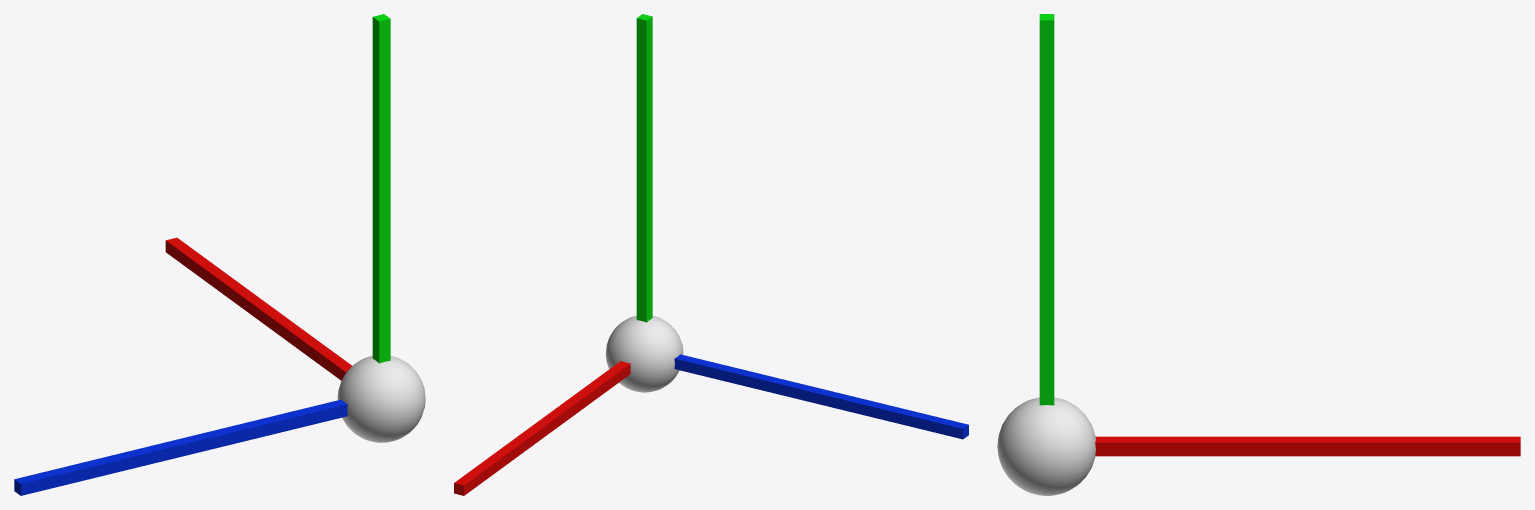
The model's file is visdiorama.fbx.
The picture shows the model from 3 angles, left to right: view 1: azimuth 30°, elevation 25°; view 2: azimuth 150°, elevation 25°; view 3: azimuth 270°, elevation 25°; orthographic projection. The views are drawn at different scales.
Visible parts, largest first — view 1: Y-Axis, Z-Axis, Sphere, X-Axis; view 2: Y-Axis, Z-Axis, Sphere, X-Axis; view 3: X-Axis, Sphere, Y-Axis.
Part boxes in pixels (x1,y1,x2,y2): Y-Axis: (372, 14, 390, 363); Z-Axis: (14, 399, 347, 495); Sphere: (337, 356, 425, 442); X-Axis: (165, 237, 351, 380); Y-Axis: (636, 14, 652, 322); Z-Axis: (674, 354, 968, 439); Sphere: (605, 316, 683, 392); X-Axis: (454, 361, 630, 495); X-Axis: (1095, 436, 1520, 456); Sphere: (997, 397, 1095, 495); Y-Axis: (1039, 14, 1054, 405).
Size of the model in its own units: 354 by 354 by 354.
